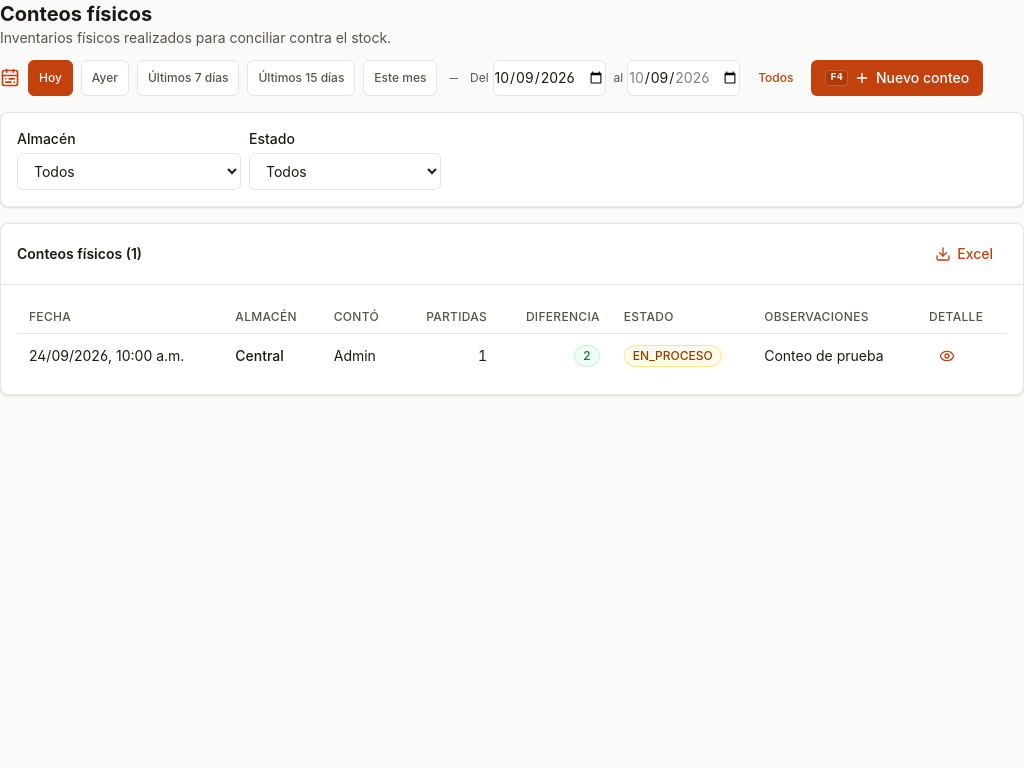
ConteosPage (smoke) › 'Nuevo conteo' abre el diálogo de alta
Click the button "F4 Nuevo conteo": (897, 78) x1=812 y1=60 x2=983 y2=96
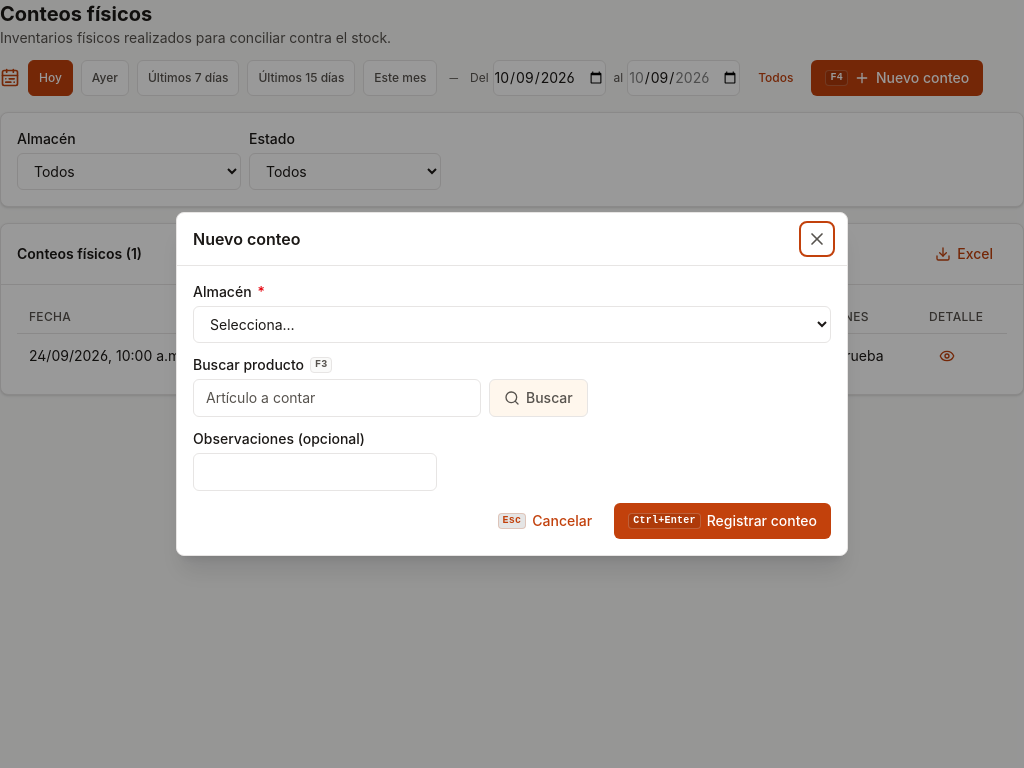
Expected: the heading "Nuevo conteo" is shown, x1=193 y1=227 x2=300 y2=251
Expected: the field labelled "Buscar producto F3" is shown, x1=193 y1=379 x2=481 y2=417
